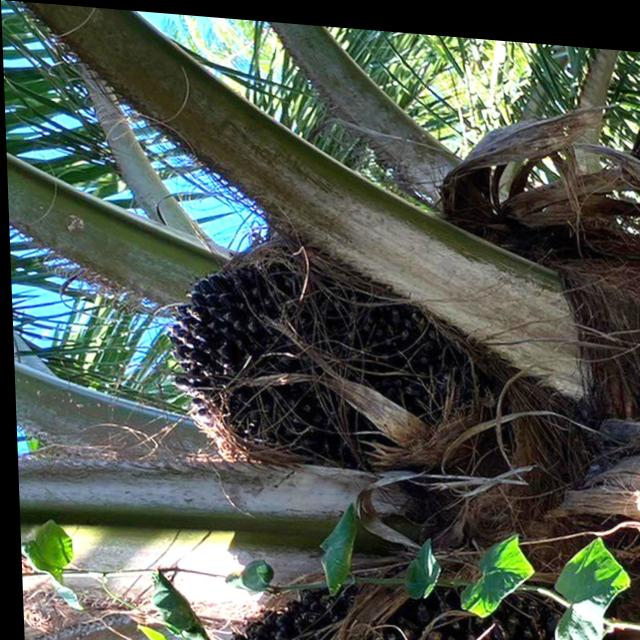almost: (152, 227, 509, 479)
